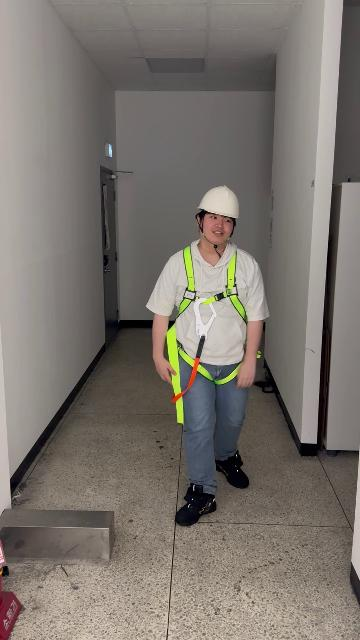helmet_worn: (196, 184, 240, 220)
shoe_worn: (175, 485, 217, 526), (215, 450, 248, 488)
vest_worn: (160, 245, 255, 416)
